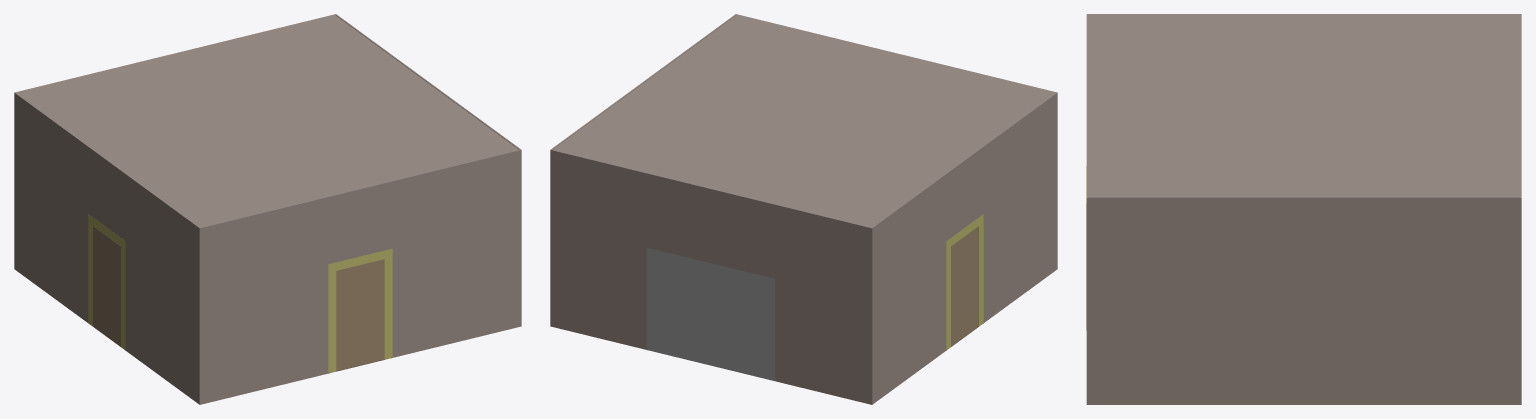
Rendered from Room31_Library.fbx.
3 renders of one model, left to right at view 1: azimuth 30°, elevation 25°; view 2: azimuth 150°, elevation 25°; view 3: azimuth 270°, elevation 25°, orthographic. The views are drawn at different scales.
Visible parts, largest first — view 1: Roof, WallSlicedPosZ, WallSlicedPosX, DoorPosZ, DoorPosX, DoorFramePosZ, DoorFramePosX, WallNegX, WallNegZ; view 2: Roof, WallNegZ, WallSlicedPosX, pCylinder11, DoorPosX, DoorFramePosX, WallNegX, WallSlicedPosZ; view 3: WallNegX, Roof, WallSlicedPosZ, WallNegZ, WallSlicedPosX.
Part boxes in pixels (x1,y1,x2,y2): Roof: (16,15,518,227); WallSlicedPosZ: (198,149,521,404); WallSlicedPosX: (14,92,201,404); DoorPosZ: (336,259,384,371); DoorPosX: (93,226,120,346); DoorFramePosZ: (328,248,392,372); DoorFramePosX: (88,214,125,349); WallNegX: (335,14,521,326); WallNegZ: (14,14,335,265); Roof: (553,15,1055,227); WallNegZ: (550,149,873,404); WallSlicedPosX: (870,93,1056,404); pCylinder11: (646,247,775,381); DoorPosX: (951,226,978,346); DoorFramePosX: (946,214,983,349); WallNegX: (550,14,736,326); WallSlicedPosZ: (736,14,1057,269); WallNegX: (1086,197,1521,404); Roof: (1088,14,1519,197); WallSlicedPosZ: (1086,14,1088,197); WallNegZ: (1519,14,1521,197); WallSlicedPosX: (1088,14,1521,14).
Size of the model in its own units: 100 by 52.62 by 100.
